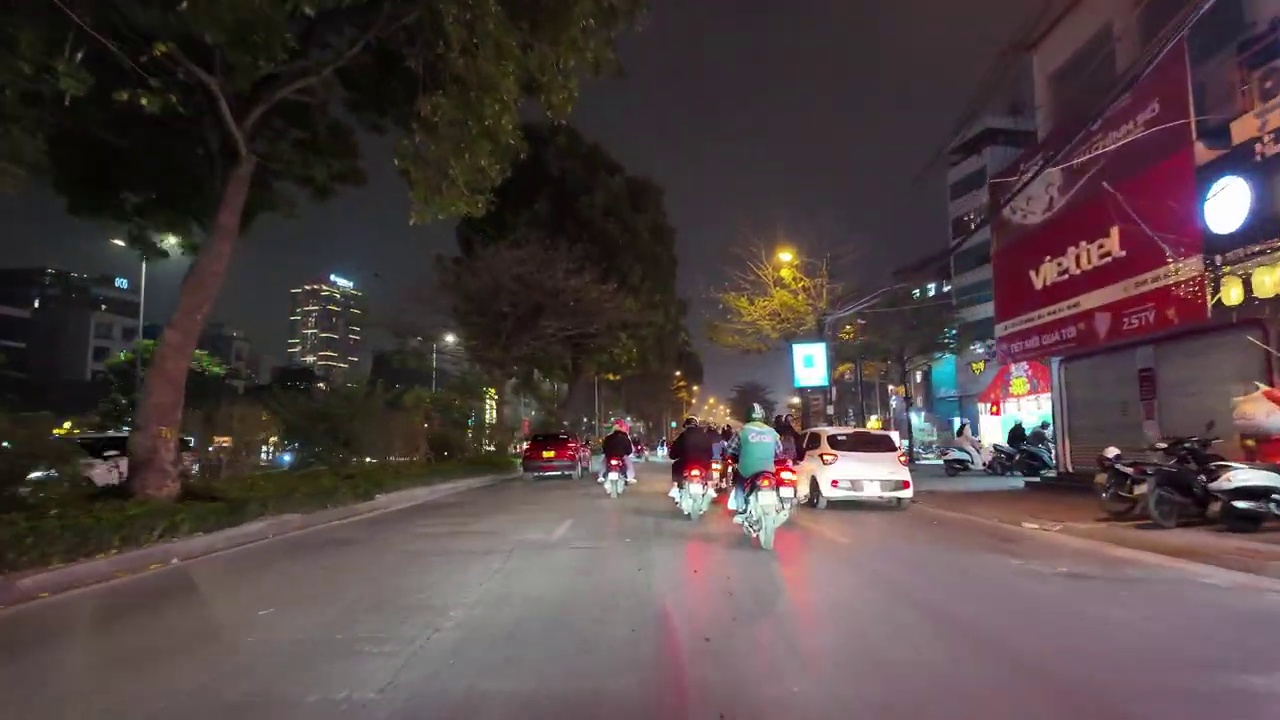acesa: (1204, 181, 1247, 230), (770, 245, 802, 279), (438, 330, 462, 351)
